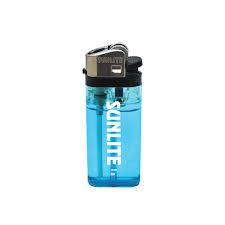lighter: (86, 44, 143, 187)
